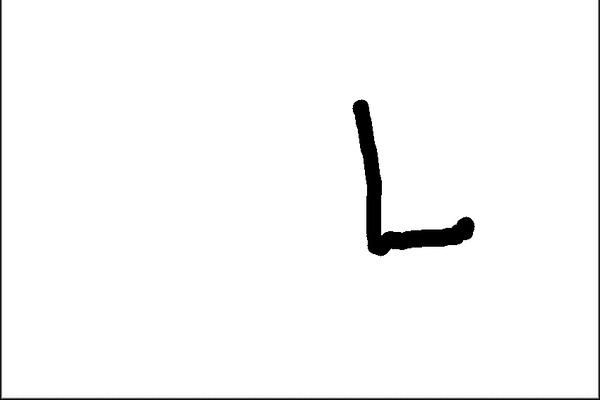L: (344, 90, 476, 260)
